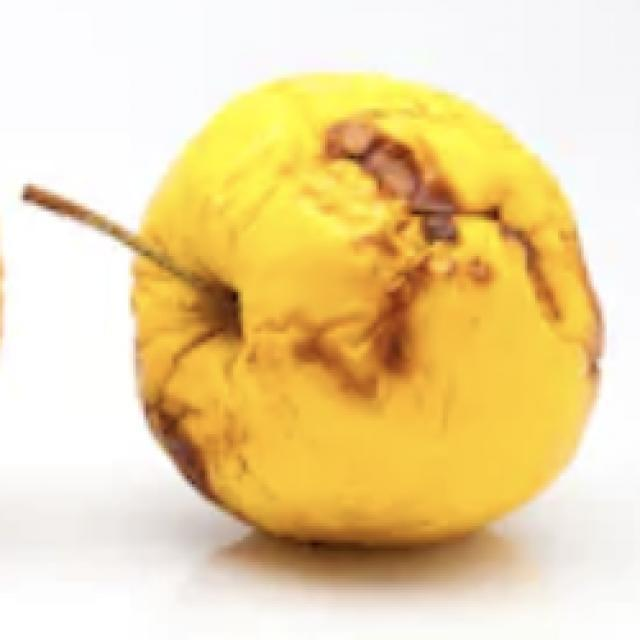Rotten: (123, 70, 603, 552)
